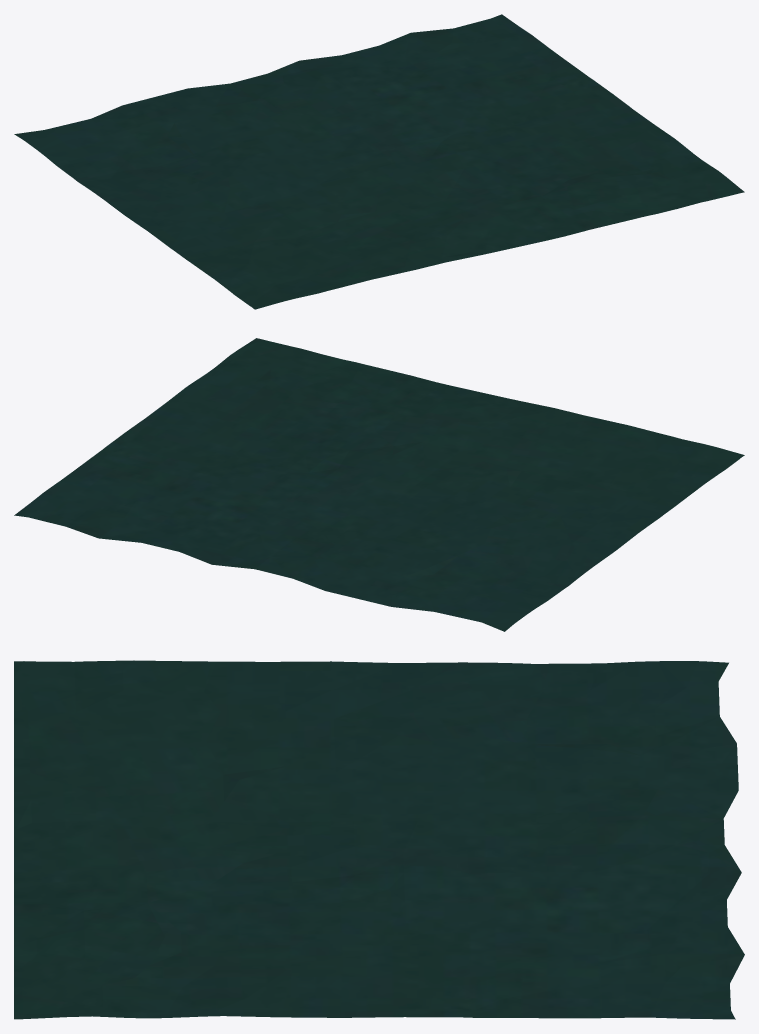
3 views of the same model, one above another, from view 1: azimuth 30°, elevation 25°; view 2: azimuth 150°, elevation 25°; view 3: azimuth 270°, elevation 25° (orthographic). The views are drawn at different scales.
Bounding box in the file's own units: 52.22 × 0.4276 × 45.45.
Materials: 2 (2 with a texture image).
